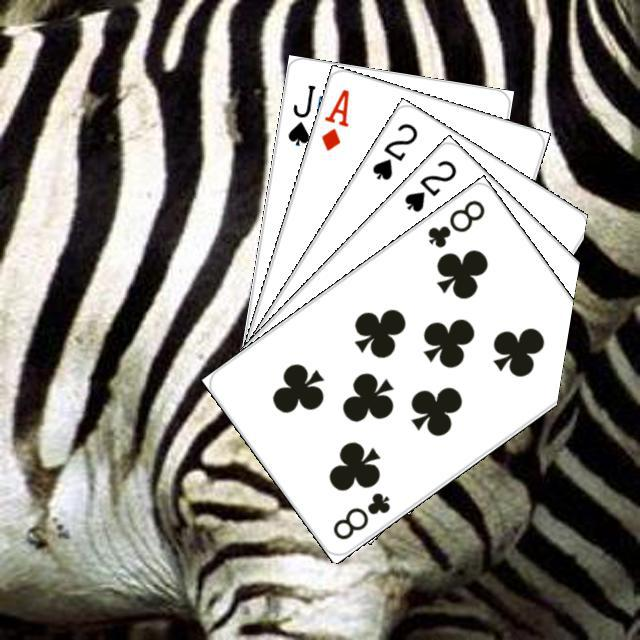2s: (399, 155, 458, 214), (367, 118, 420, 182)
8c: (422, 194, 487, 250), (327, 487, 392, 542)
Ad: (316, 83, 351, 153)
Js: (283, 79, 317, 148)
